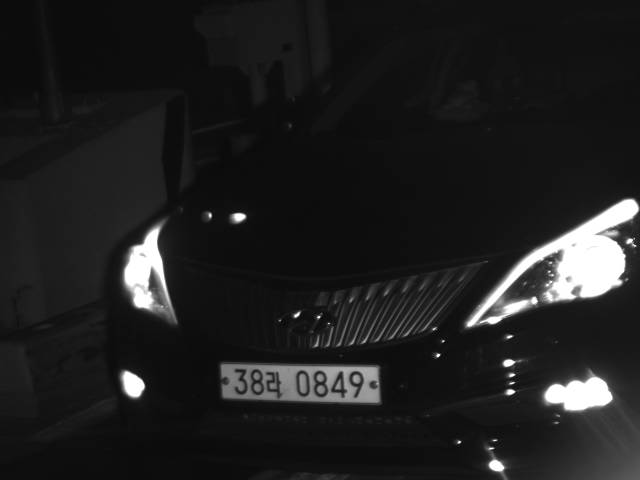car: (97, 19, 639, 467)
plate: (216, 362, 384, 405)
